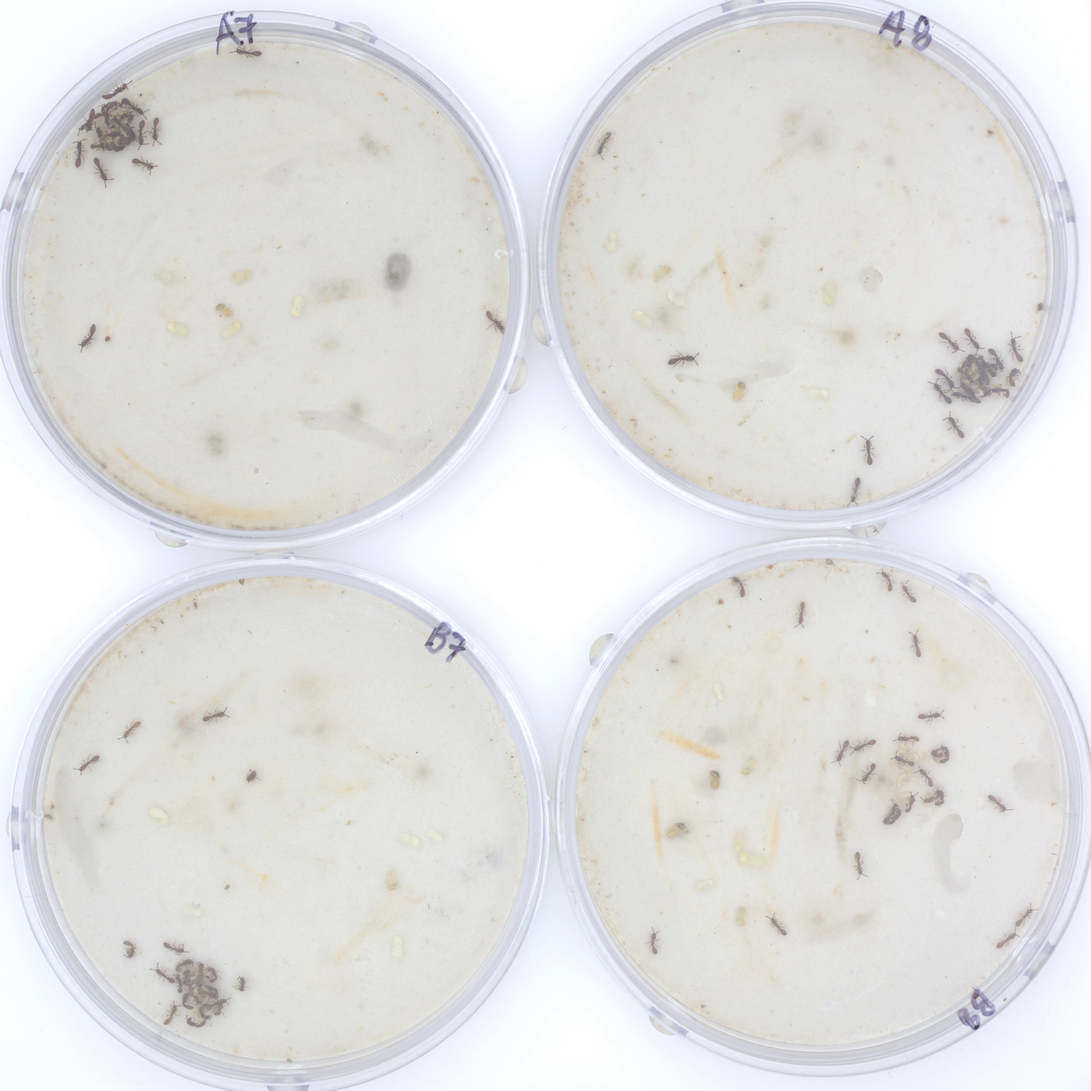brood: (174, 961, 219, 1027), (889, 739, 947, 787), (954, 356, 1019, 398), (90, 102, 133, 151), (891, 789, 916, 813), (923, 792, 939, 805)
